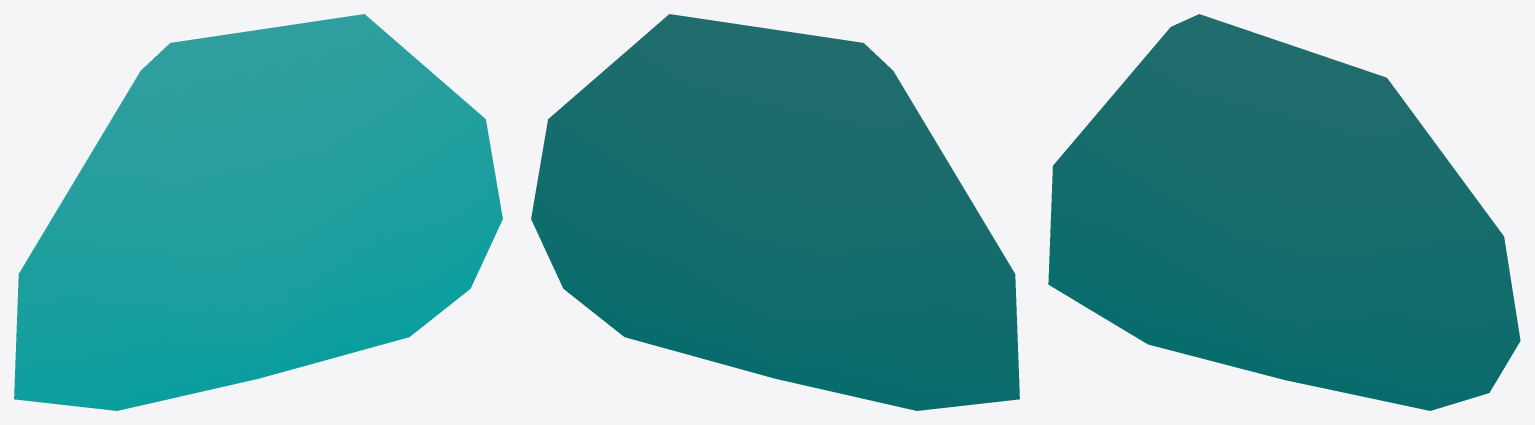
The model's file is Bigleaf_Hydrangea_vgztealha_Mid_vgztealha_VarA_LOD3.fbx.
3 renders of one model, left to right at view 1: azimuth 30°, elevation 25°; view 2: azimuth 150°, elevation 25°; view 3: azimuth 330°, elevation 25°, orthographic. The views are drawn at different scales.
Visible parts, largest first — view 1: _7qjs_VarA_LOD5; view 2: _7qjs_VarA_LOD5; view 3: _7qjs_VarA_LOD5.
Boxes of the visible parts, bbox=[...] form: _7qjs_VarA_LOD5: bbox=[14, 14, 502, 410]; _7qjs_VarA_LOD5: bbox=[531, 14, 1019, 410]; _7qjs_VarA_LOD5: bbox=[1048, 14, 1520, 410].
Size of the model in its own units: 104 by 72.71 by 0.
